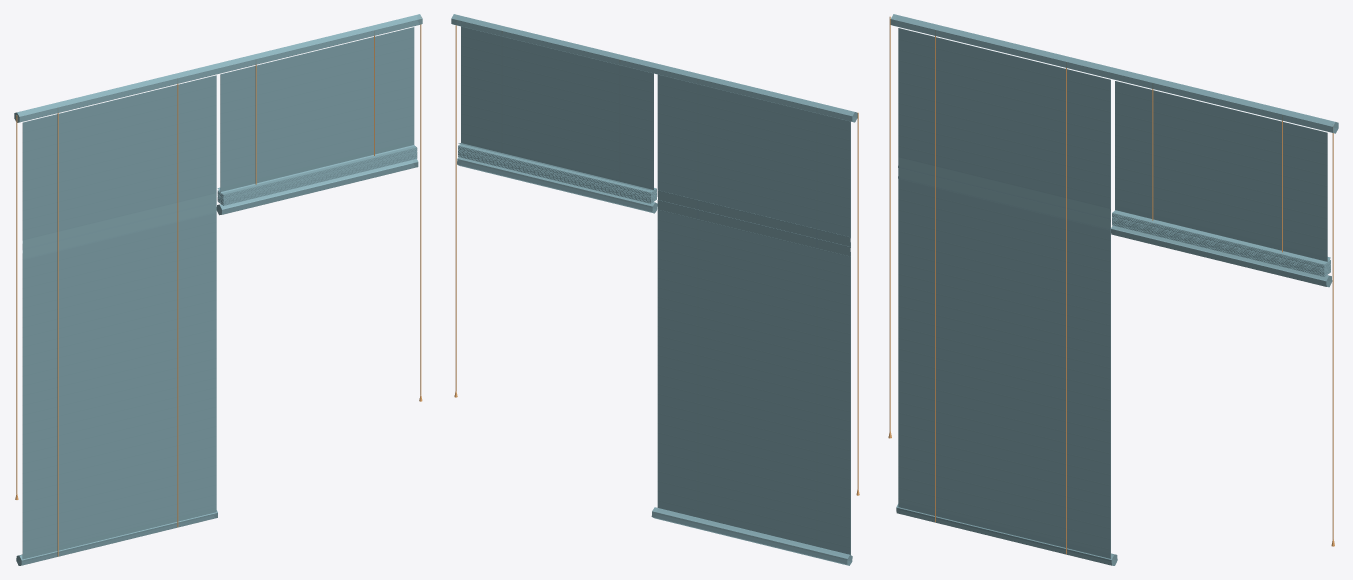
Rendered from window.fbx.
The picture shows the model from 3 angles, left to right: view 1: azimuth 30°, elevation 25°; view 2: azimuth 150°, elevation 25°; view 3: azimuth 330°, elevation 25°; orthographic projection. The views are drawn at different scales.
Parts seen in each view (by area): view 1: NGon03, Rectangle01, Rectangle47, Rectangle24, Rectangle39, Rectangle29, Rectangle10, Rectangle50, Rectangle33, Rectangle26, Rectangle36, Rectangle12 (+53 smaller); view 2: NGon03, NGon04, Rectangle21, Rectangle36, Rectangle31, Rectangle26, Rectangle54, Rectangle33, Rectangle41, Rectangle19, Rectangle09, Rectangle04 (+51 smaller); view 3: NGon03, Rectangle47, Rectangle01, Rectangle42, Rectangle44, Rectangle02, Rectangle08, Rectangle16, Rectangle12, Rectangle50, Rectangle51, Rectangle53 (+51 smaller).
Boxes of the visible parts, box(x1,y1,x2,y2) form: NGon03: box(14, 14, 422, 122); Rectangle01: box(22, 75, 216, 133); Rectangle47: box(220, 27, 414, 84); Rectangle24: box(22, 299, 216, 357); Rectangle39: box(22, 446, 216, 502); Rectangle29: box(22, 348, 216, 405); Rectangle10: box(22, 163, 216, 220); Rectangle50: box(220, 56, 414, 114); Rectangle33: box(22, 387, 216, 444); Rectangle26: box(22, 319, 216, 376); Rectangle36: box(22, 416, 216, 473); Rectangle12: box(22, 183, 216, 240); NGon03: box(451, 14, 857, 122); NGon04: box(651, 507, 852, 565); Rectangle21: box(657, 268, 850, 325); Rectangle36: box(657, 413, 850, 470); Rectangle31: box(657, 364, 850, 422); Rectangle26: box(657, 316, 850, 373); Rectangle54: box(461, 94, 653, 151); Rectangle33: box(657, 384, 850, 441); Rectangle41: box(657, 462, 850, 519); Rectangle19: box(657, 248, 850, 305); Rectangle09: box(657, 151, 850, 209); Rectangle04: box(657, 103, 850, 160); NGon03: box(890, 14, 1338, 133); Rectangle47: box(1115, 81, 1327, 144); Rectangle01: box(898, 28, 1110, 91); Rectangle42: box(898, 466, 1110, 529); Rectangle44: box(898, 487, 1110, 550); Rectangle02: box(898, 39, 1110, 102); Rectangle08: box(898, 103, 1110, 166); Rectangle16: box(898, 188, 1110, 251); Rectangle12: box(898, 146, 1110, 208); Rectangle50: box(1115, 113, 1327, 176); Rectangle51: box(1115, 124, 1327, 187); Rectangle53: box(1115, 145, 1327, 208).
Size of the model in its own units: 1574 by 1686 by 53.59.
